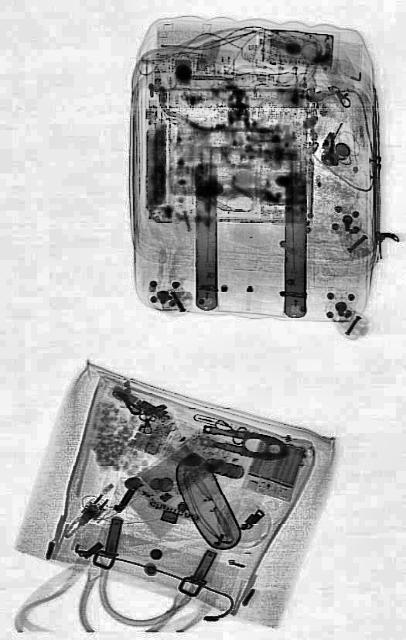Pliers: (197, 418, 287, 467)
